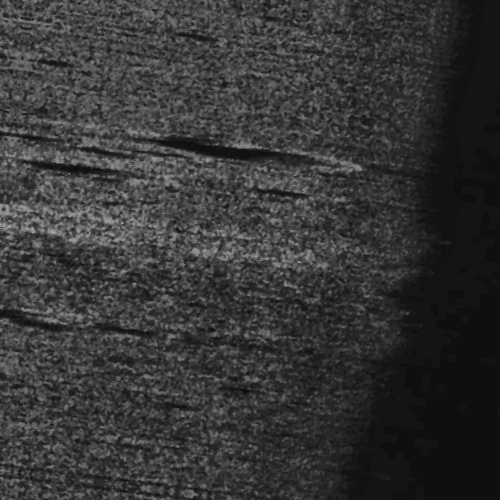object: (260, 142, 365, 159), (72, 181, 207, 192), (16, 336, 79, 343)
shadow: (139, 142, 312, 159), (31, 181, 139, 192), (0, 336, 48, 343)
